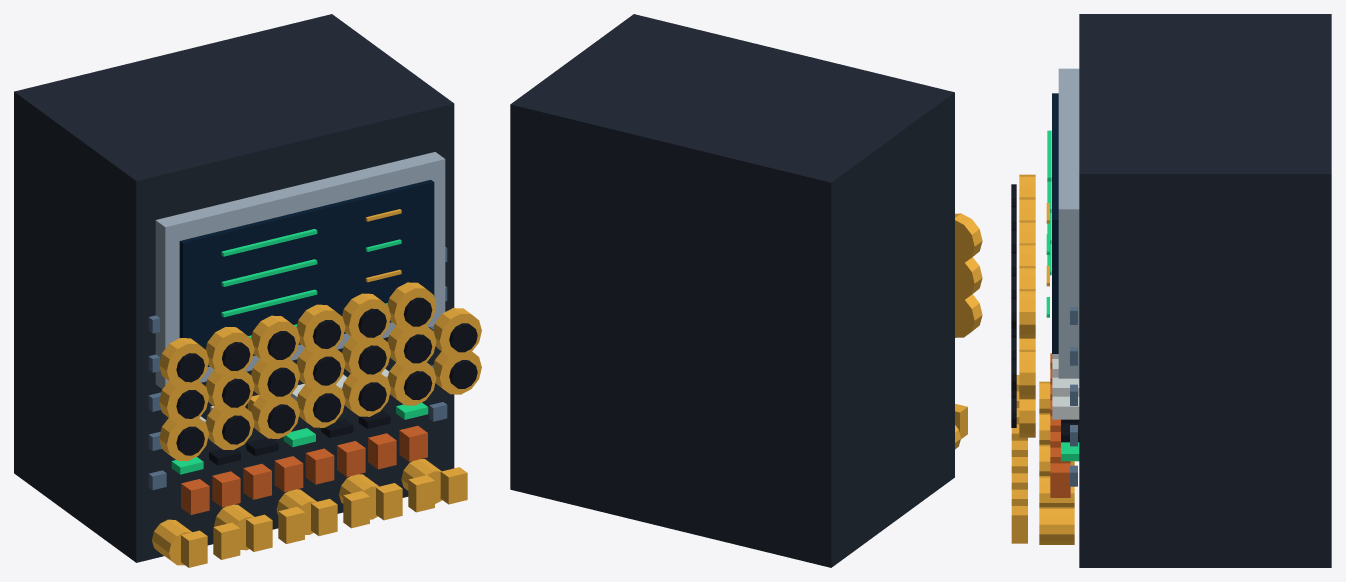
File: 67_L86_RoboticContactSafetyPLC.fbx
The picture shows the model from 3 angles, left to right: view 1: azimuth 30°, elevation 25°; view 2: azimuth 150°, elevation 25°; view 3: azimuth 270°, elevation 25°; orthographic projection. The views are drawn at different scales.
Visible parts, largest first — view 1: L86_RoboticContactSafetyPLC, L86_RoboticContactSafetyPLC_Part_0039, L86_RoboticContactSafetyPLC_Part_0041, L86_RoboticContactSafetyPLC_Part_0047, L86_RoboticContactSafetyPLC_Part_0045, L86_RoboticContactSafetyPLC_Part_0037, L86_RoboticContactSafetyPLC_Part_0049, L86_RoboticContactSafetyPLC_Part_0043, L86_RoboticContactSafetyPLC_Part_0011, L86_RoboticContactSafetyPLC_Part_0017, L86_RoboticContactSafetyPLC_Part_0013, L86_RoboticContactSafetyPLC_Part_0019 (+29 smaller); view 2: L86_RoboticContactSafetyPLC, L86_RoboticContactSafetyPLC_Part_0039, L86_RoboticContactSafetyPLC_Part_0011, L86_RoboticContactSafetyPLC_Part_0025; view 3: L86_RoboticContactSafetyPLC, L86_RoboticContactSafetyPLC_Part_0037, L86_RoboticContactSafetyPLC_Part_0049, L86_RoboticContactSafetyPLC_Part_0023, L86_RoboticContactSafetyPLC_Part_0039, L86_RoboticContactSafetyPLC_Part_0041, L86_RoboticContactSafetyPLC_Part_0043.
Part boxes in pixels (x1=…): L86_RoboticContactSafetyPLC: x1=14, y1=14, x2=467, y2=567; L86_RoboticContactSafetyPLC_Part_0039: x1=159, y1=338, x2=208, y2=387; L86_RoboticContactSafetyPLC_Part_0041: x1=205, y1=327, x2=254, y2=376; L86_RoboticContactSafetyPLC_Part_0047: x1=342, y1=293, x2=390, y2=343; L86_RoboticContactSafetyPLC_Part_0045: x1=296, y1=304, x2=345, y2=354; L86_RoboticContactSafetyPLC_Part_0037: x1=433, y1=308, x2=481, y2=357; L86_RoboticContactSafetyPLC_Part_0049: x1=387, y1=282, x2=436, y2=330; L86_RoboticContactSafetyPLC_Part_0043: x1=251, y1=315, x2=299, y2=364; L86_RoboticContactSafetyPLC_Part_0011: x1=159, y1=417, x2=208, y2=461; L86_RoboticContactSafetyPLC_Part_0017: x1=296, y1=384, x2=345, y2=427; L86_RoboticContactSafetyPLC_Part_0013: x1=205, y1=406, x2=254, y2=450; L86_RoboticContactSafetyPLC_Part_0019: x1=342, y1=373, x2=390, y2=416; L86_RoboticContactSafetyPLC: x1=510, y1=14, x2=967, y2=567; L86_RoboticContactSafetyPLC_Part_0039: x1=955, y1=213, x2=982, y2=263; L86_RoboticContactSafetyPLC_Part_0011: x1=955, y1=294, x2=982, y2=337; L86_RoboticContactSafetyPLC_Part_0025: x1=955, y1=257, x2=982, y2=300; L86_RoboticContactSafetyPLC: x1=1011, y1=14, x2=1331, y2=567; L86_RoboticContactSafetyPLC_Part_0037: x1=1019, y1=349, x2=1035, y2=399; L86_RoboticContactSafetyPLC_Part_0049: x1=1019, y1=289, x2=1035, y2=338; L86_RoboticContactSafetyPLC_Part_0023: x1=1019, y1=399, x2=1035, y2=437; L86_RoboticContactSafetyPLC_Part_0039: x1=1019, y1=174, x2=1035, y2=197; L86_RoboticContactSafetyPLC_Part_0041: x1=1019, y1=197, x2=1035, y2=220; L86_RoboticContactSafetyPLC_Part_0043: x1=1019, y1=220, x2=1035, y2=243.
Bounding box in the file's own units: 97.92 × 112 × 82.84.
